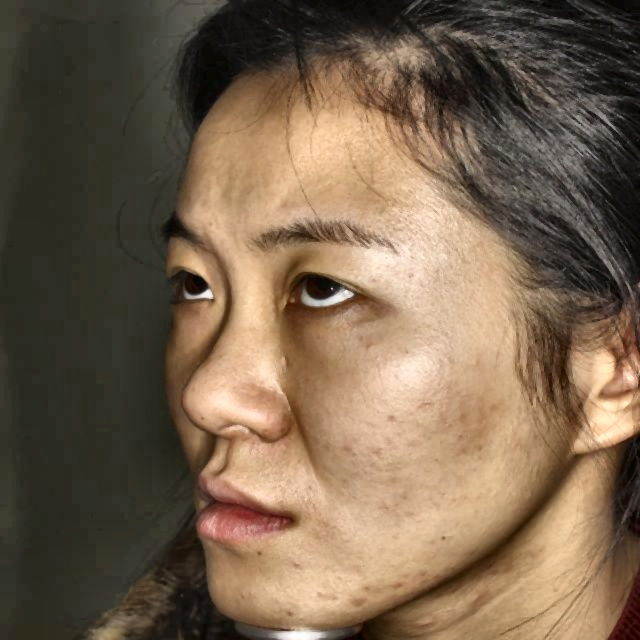comedone: (388, 572, 426, 594), (348, 578, 368, 616)
